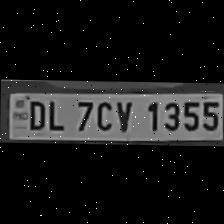1: (138, 97, 160, 130)
3: (160, 96, 180, 130)
5: (198, 98, 220, 130), (180, 98, 198, 130)
7: (69, 97, 93, 130)
C: (90, 96, 114, 130)
D: (24, 97, 46, 128)
L: (43, 96, 66, 130)
V: (111, 97, 135, 131)
